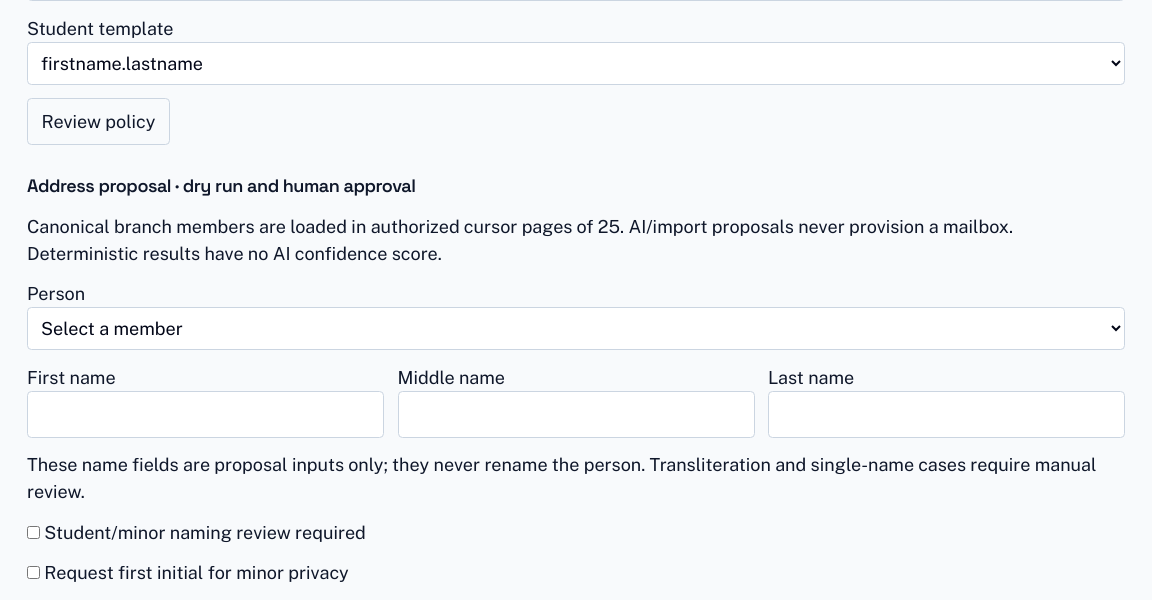
Scenario: surfaces a stale draft revision conflict without clearing current review data
(page scrolled)
Select "Ada Example (student)" in the dropdown labelled "Person": point(576, 328) left=27, top=307, right=1125, bottom=350
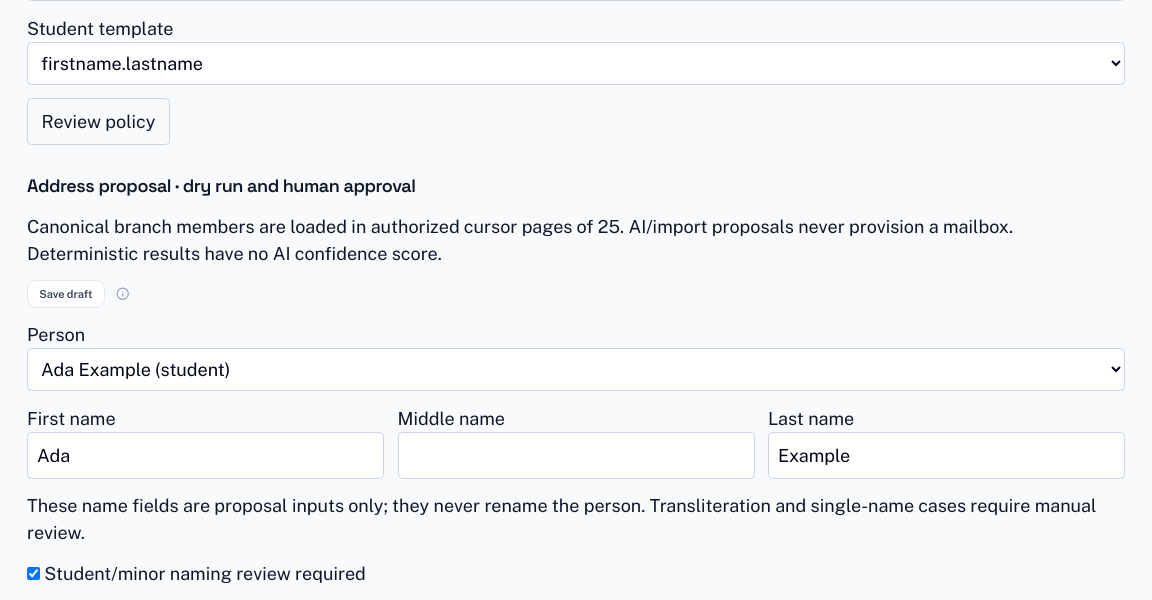
Click the button "Save draft": point(66, 294) left=27, top=280, right=105, bottom=308
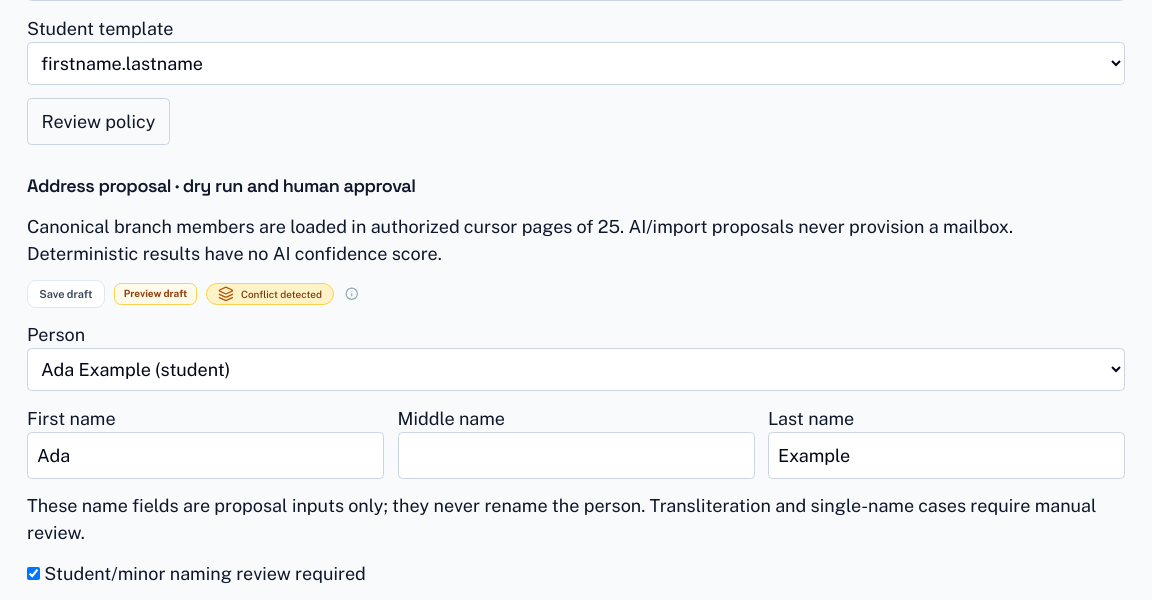
Check: the field labelled "First name" holds "Ada", box left=27, top=432, right=384, bottom=478
Check: the text "Conflict detected" is shown, box left=241, top=288, right=322, bottom=300
